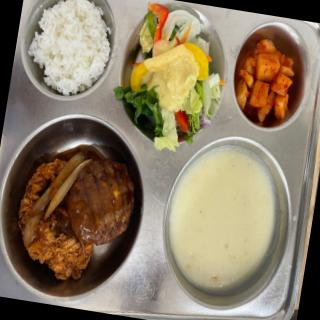Nasi: (24, 1, 118, 101)
